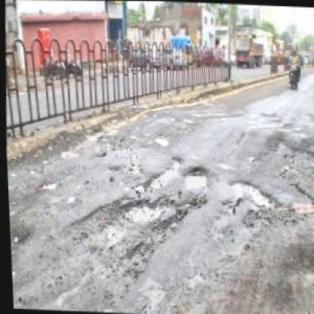Hueco: (67, 193, 189, 246), (225, 178, 278, 211), (144, 153, 184, 191), (180, 163, 210, 193), (100, 139, 130, 154), (290, 197, 313, 214), (152, 134, 168, 148)
